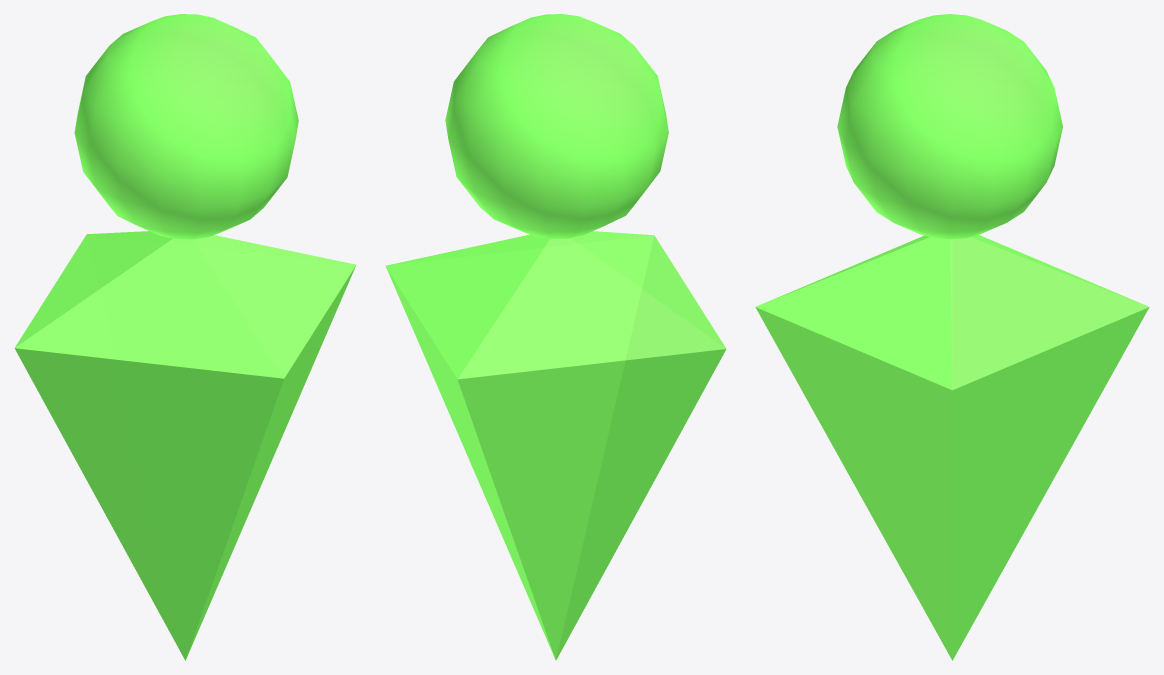
Rendered from NavPointerChild.fbx.
3 views of the same model, side by side, from view 1: azimuth 30°, elevation 25°; view 2: azimuth 150°, elevation 25°; view 3: azimuth 270°, elevation 25° (orthographic).
Visible parts, largest first — view 1: Circle.001; view 2: Circle.001; view 3: Circle.001.
Part boxes in pixels (x1,y1,x2,y2): Circle.001: (14, 14, 356, 660); Circle.001: (385, 14, 726, 660); Circle.001: (755, 14, 1149, 660).
Bounding box in the file's own units: 1030 × 1834 × 1030.
